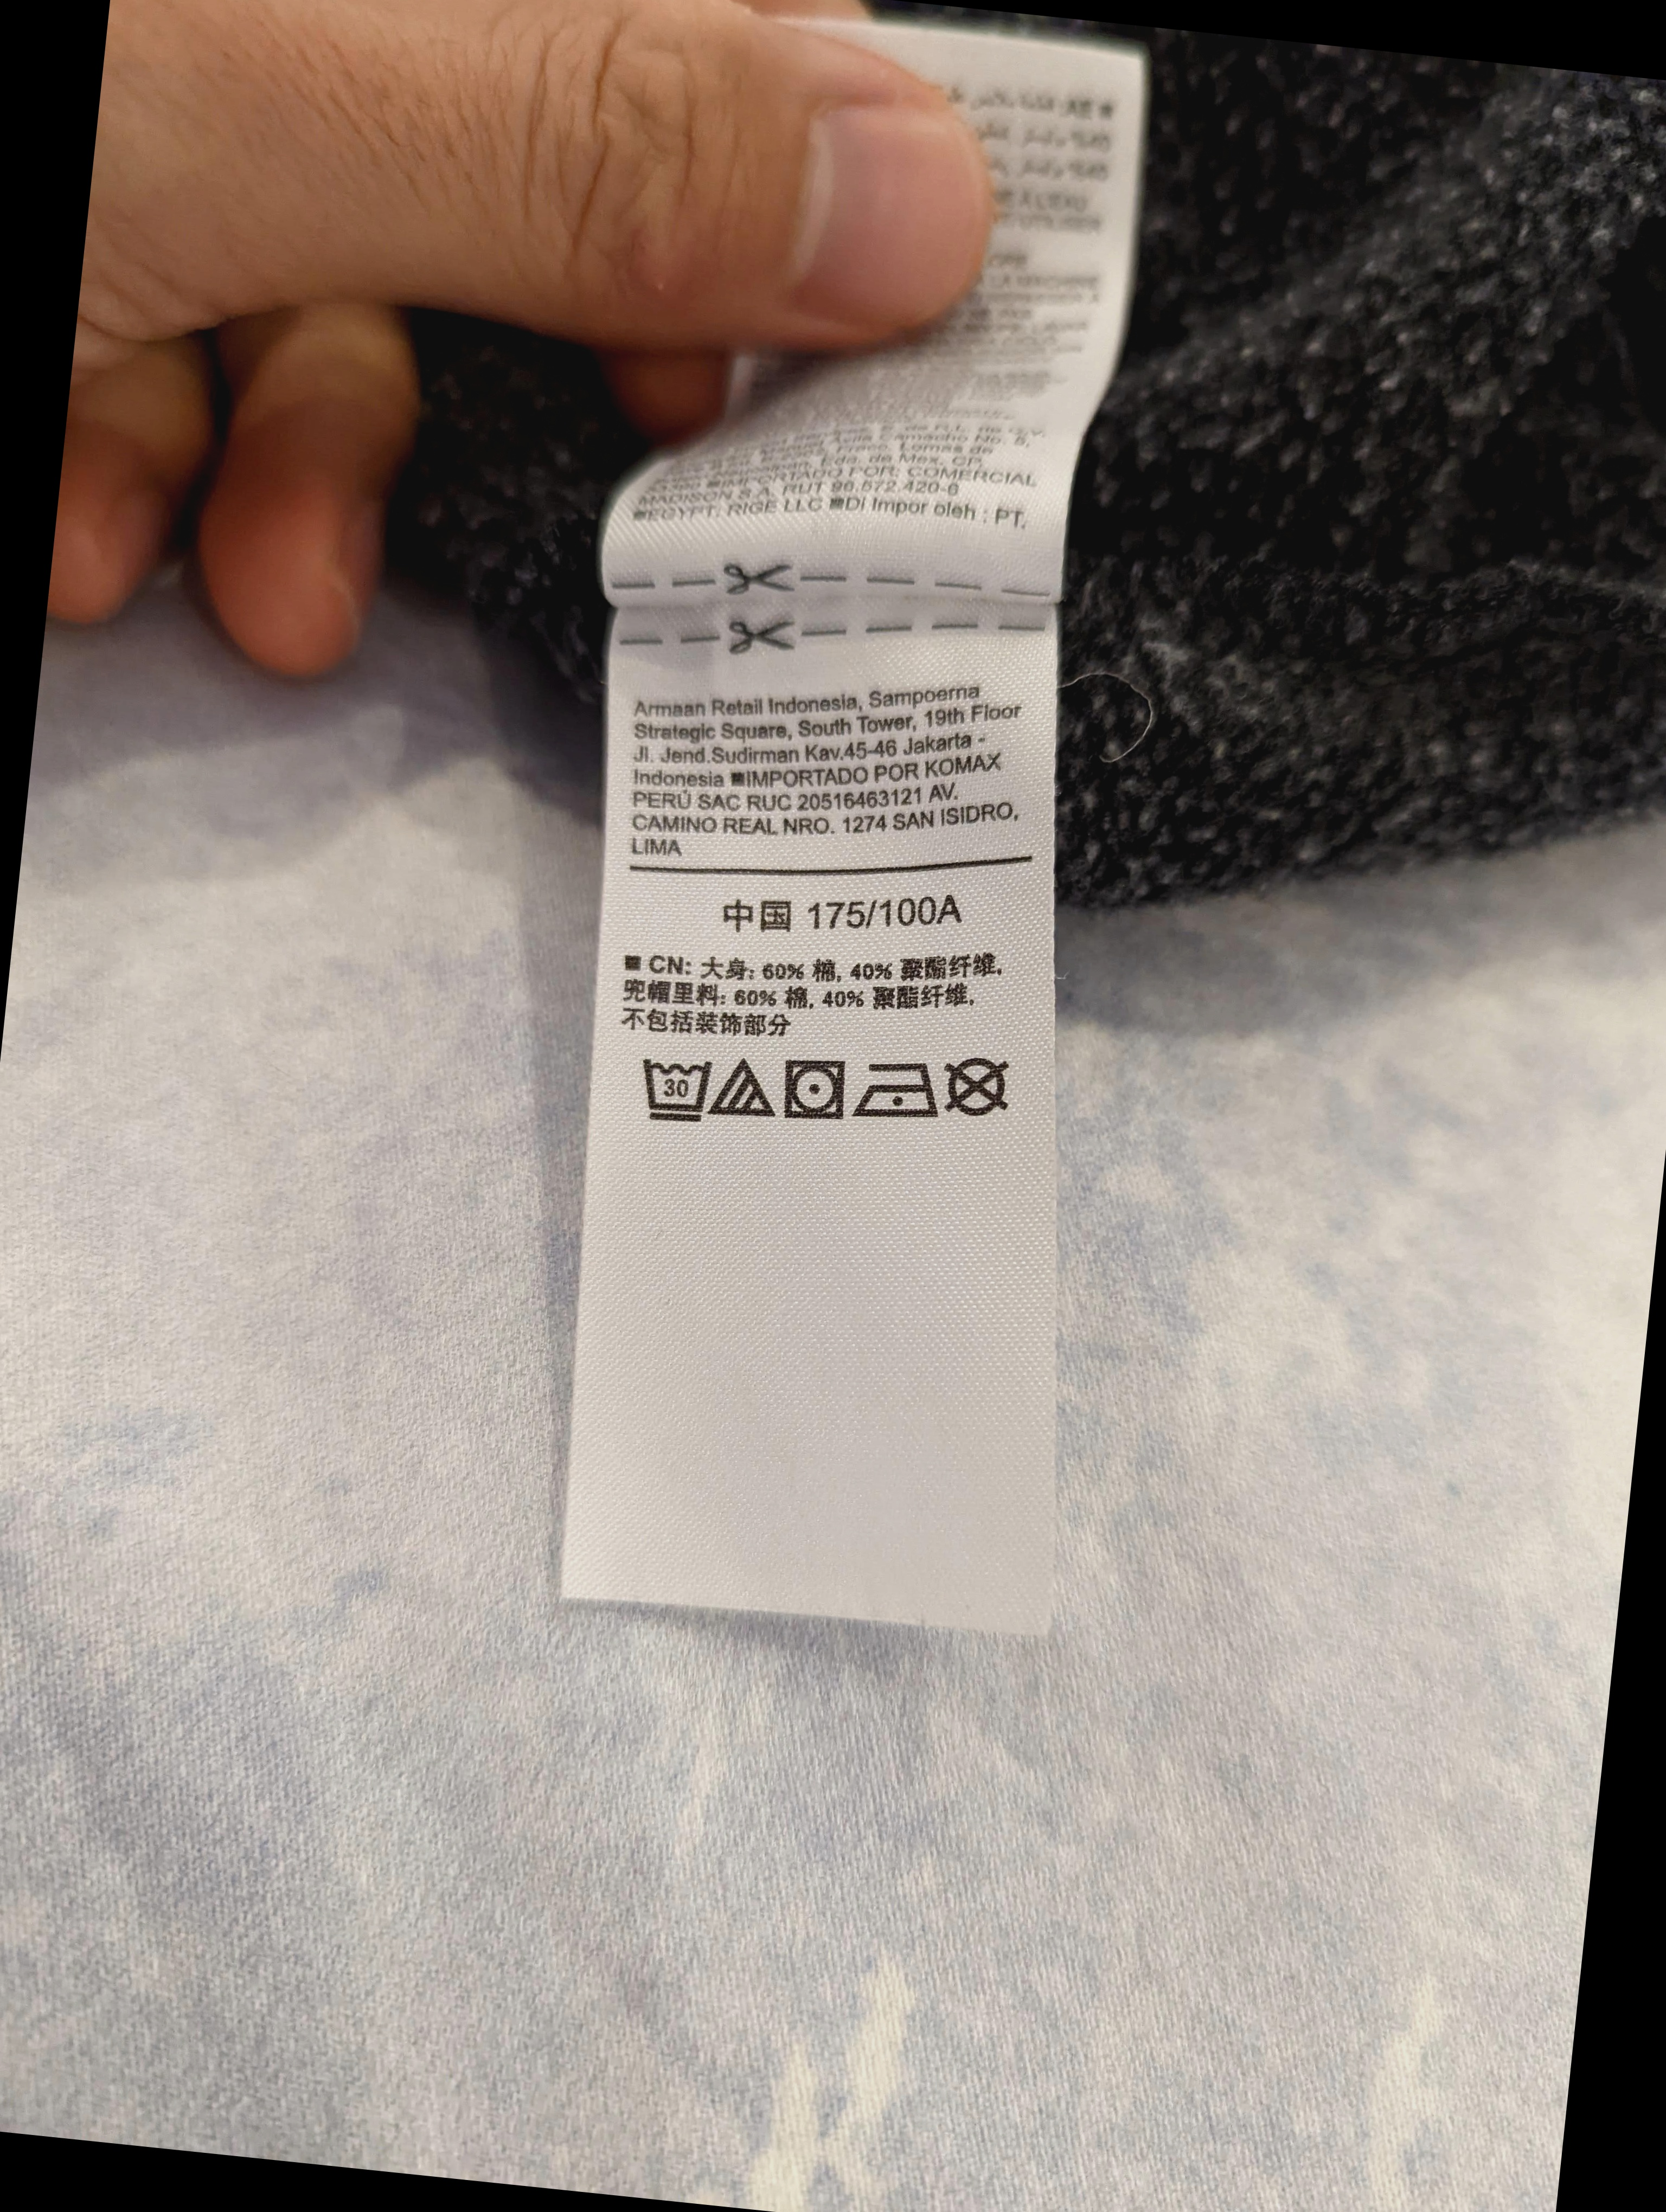30C: (642, 1044, 718, 1131)
DN_bleach: (707, 1056, 782, 1124)
DN_dry_clean: (940, 1053, 1013, 1126)
iron_low: (851, 1054, 945, 1133)
tumble_dry_low: (777, 1051, 854, 1128)
